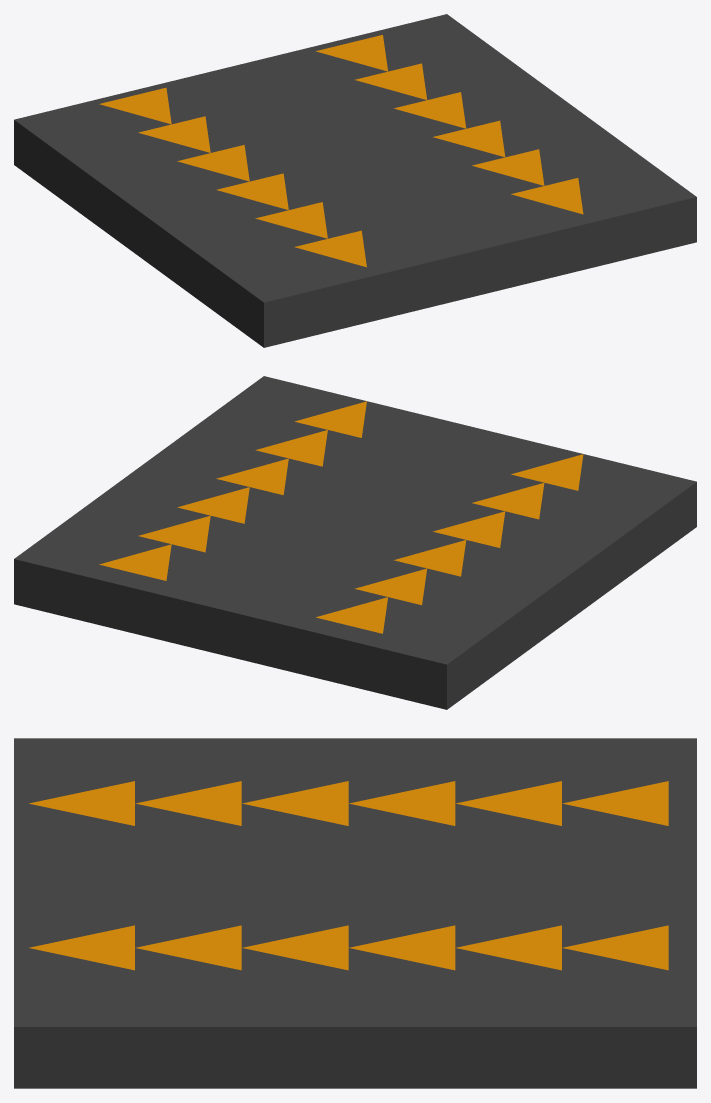
The model's file is transportbelt2.fbx.
The picture shows the model from 3 angles, top to bottom: view 1: azimuth 30°, elevation 25°; view 2: azimuth 150°, elevation 25°; view 3: azimuth 270°, elevation 25°; orthographic projection. The views are drawn at different scales.
Visible parts, largest first — view 1: Cube_Cube.001, Plane; view 2: Cube_Cube.001, Plane; view 3: Cube_Cube.001, Plane.
Boxes of the visible parts, left/top/right/bottom form: Cube_Cube.001: left=14, top=14, right=696, bottom=347; Plane: left=99, top=35, right=583, bottom=267; Cube_Cube.001: left=14, top=376, right=696, bottom=709; Plane: left=99, top=401, right=583, bottom=633; Cube_Cube.001: left=14, top=738, right=696, bottom=1088; Plane: left=29, top=781, right=668, bottom=970.
Size of the model in its own units: 6400 by 710 by 6400.
